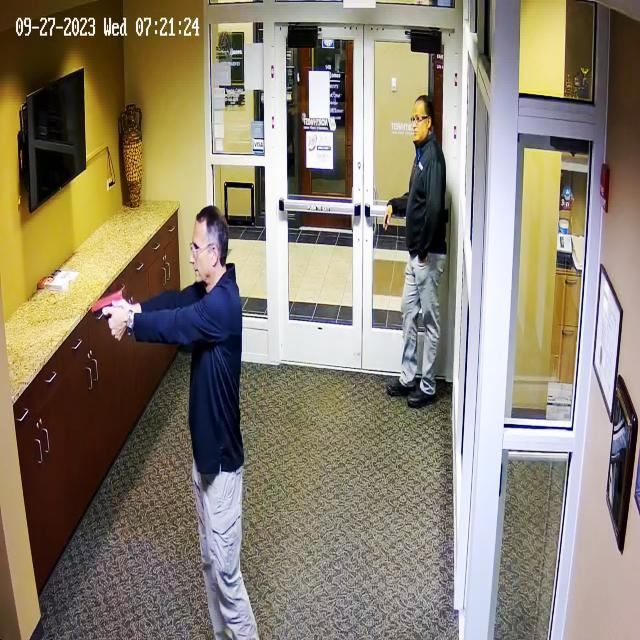Gun: (82, 275, 135, 332)
